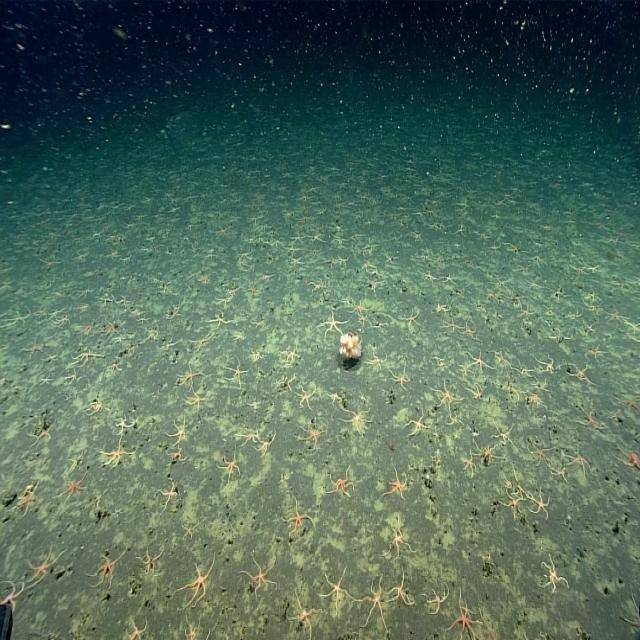brittle-stars: (173, 560, 209, 606), (360, 579, 391, 629), (24, 550, 60, 588), (449, 598, 481, 640), (90, 547, 120, 591), (242, 555, 273, 595), (289, 594, 318, 636), (321, 572, 346, 620), (98, 433, 126, 473), (284, 506, 314, 540), (422, 584, 450, 618), (544, 556, 566, 598), (566, 445, 595, 475), (387, 567, 406, 610), (25, 420, 56, 446), (298, 417, 322, 450), (384, 472, 410, 502), (56, 477, 88, 501), (326, 468, 352, 497), (408, 408, 428, 444), (497, 494, 520, 525), (576, 408, 601, 435), (182, 388, 206, 416), (526, 494, 549, 523), (364, 344, 391, 368), (392, 516, 409, 554), (564, 361, 588, 387), (385, 368, 410, 392), (349, 402, 368, 433), (156, 480, 180, 504), (323, 311, 344, 338), (528, 443, 555, 464), (8, 494, 36, 514), (0, 583, 25, 605), (507, 476, 529, 501), (457, 455, 479, 480), (616, 446, 640, 468), (220, 457, 242, 480), (174, 362, 195, 386), (293, 384, 312, 410), (617, 394, 640, 414), (258, 428, 275, 455), (0, 310, 27, 327), (194, 325, 212, 350), (534, 358, 562, 374), (630, 592, 640, 636), (242, 421, 260, 445), (434, 384, 455, 404), (139, 554, 162, 572), (218, 363, 245, 378), (503, 379, 522, 399), (71, 349, 97, 363), (328, 389, 344, 411), (481, 444, 498, 464), (357, 314, 377, 331), (441, 320, 462, 336), (459, 599, 475, 619), (544, 330, 570, 342), (171, 428, 187, 447), (608, 307, 628, 322), (25, 339, 43, 355), (472, 386, 488, 404), (554, 465, 569, 484), (213, 292, 227, 312), (88, 403, 104, 420), (497, 422, 514, 438), (471, 350, 488, 366), (627, 318, 640, 338), (403, 311, 420, 326), (148, 316, 160, 337), (285, 346, 304, 359), (181, 528, 197, 543), (278, 375, 294, 390), (47, 310, 60, 328), (83, 322, 99, 336), (456, 363, 470, 379), (586, 345, 604, 357), (464, 322, 477, 338), (530, 391, 542, 408), (213, 312, 227, 326), (450, 409, 460, 428), (434, 303, 448, 316), (517, 365, 533, 376), (126, 305, 139, 318), (503, 474, 513, 490), (97, 296, 117, 304), (496, 354, 512, 364), (568, 311, 582, 322), (246, 400, 260, 410), (431, 357, 445, 367), (167, 309, 182, 318), (108, 362, 120, 373), (105, 320, 116, 332), (172, 452, 182, 465), (356, 303, 366, 316), (232, 329, 245, 339), (250, 318, 263, 328), (47, 354, 57, 366), (115, 293, 127, 303), (509, 292, 521, 302), (119, 418, 127, 432), (69, 373, 78, 385), (486, 292, 498, 301), (137, 312, 147, 322), (40, 378, 52, 386), (522, 310, 532, 319), (166, 343, 174, 354), (587, 305, 599, 310), (61, 318, 68, 326), (585, 323, 592, 331)
